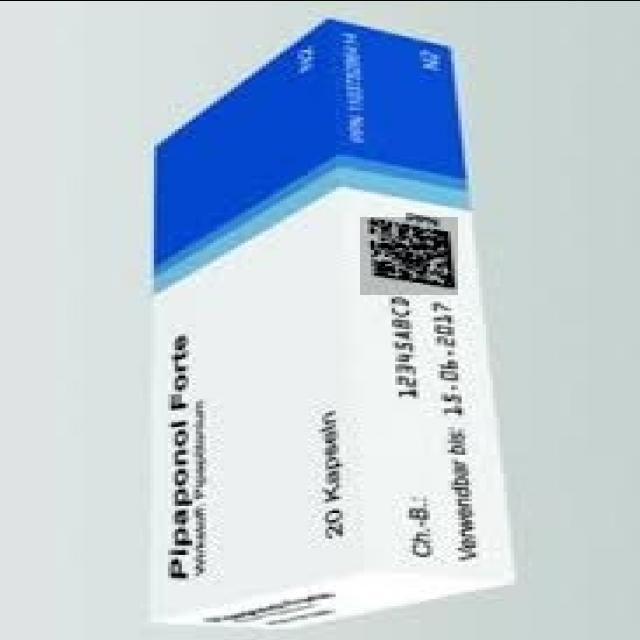Data-Matrix: (360, 216, 458, 294)
